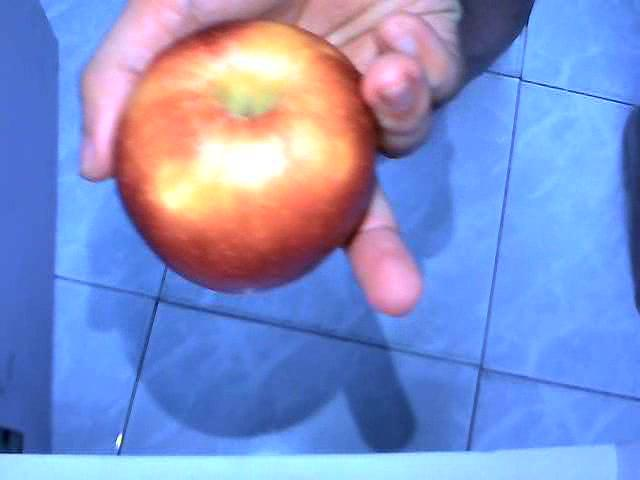apple: (112, 16, 379, 294)
